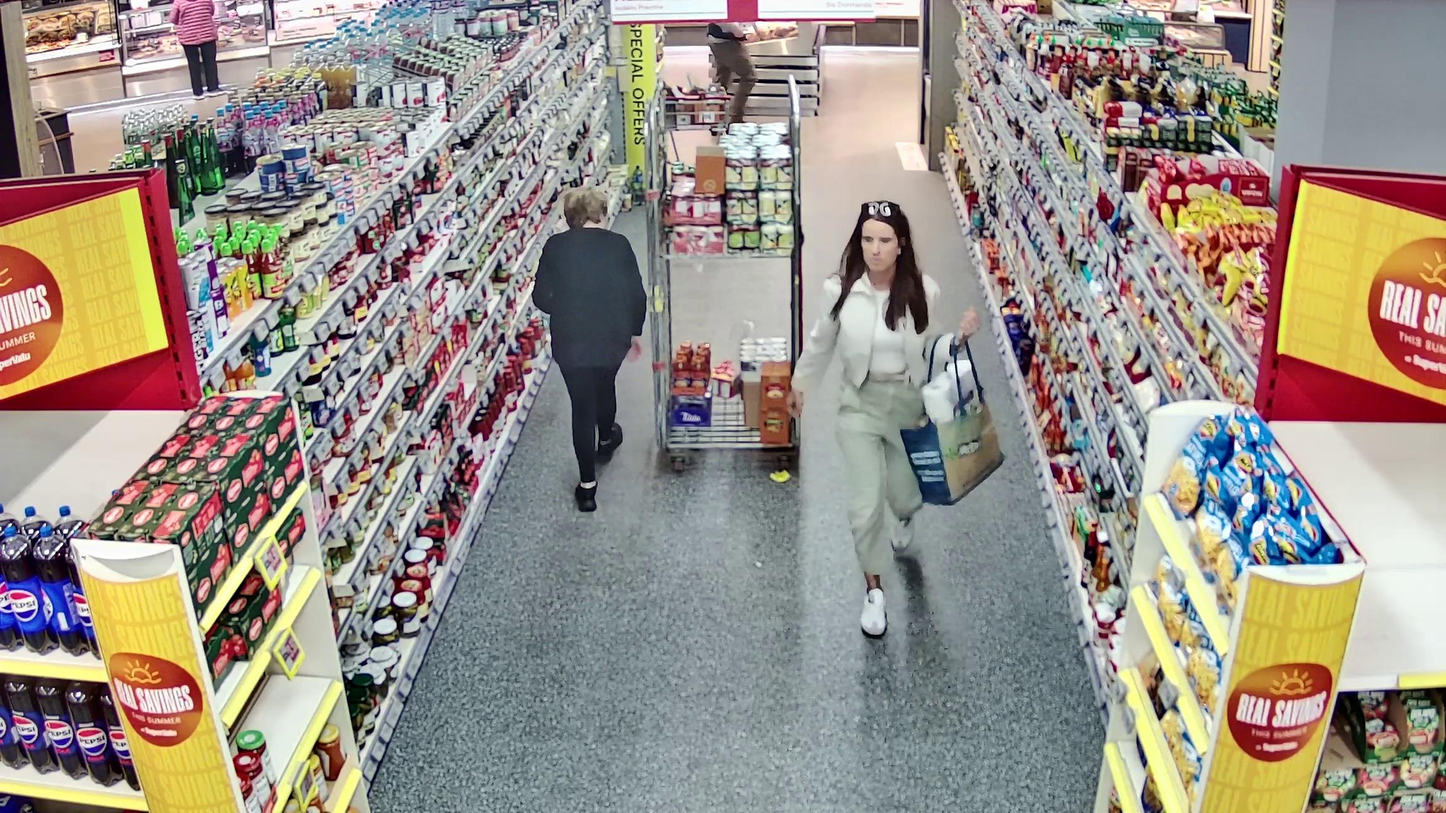filled-shopping-bags: (901, 350, 1007, 507)
person: (785, 200, 984, 635)
person-with-filled-shopping-bag-s-: (785, 200, 1006, 636)
